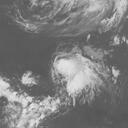cyclone: (53, 51, 108, 97)
